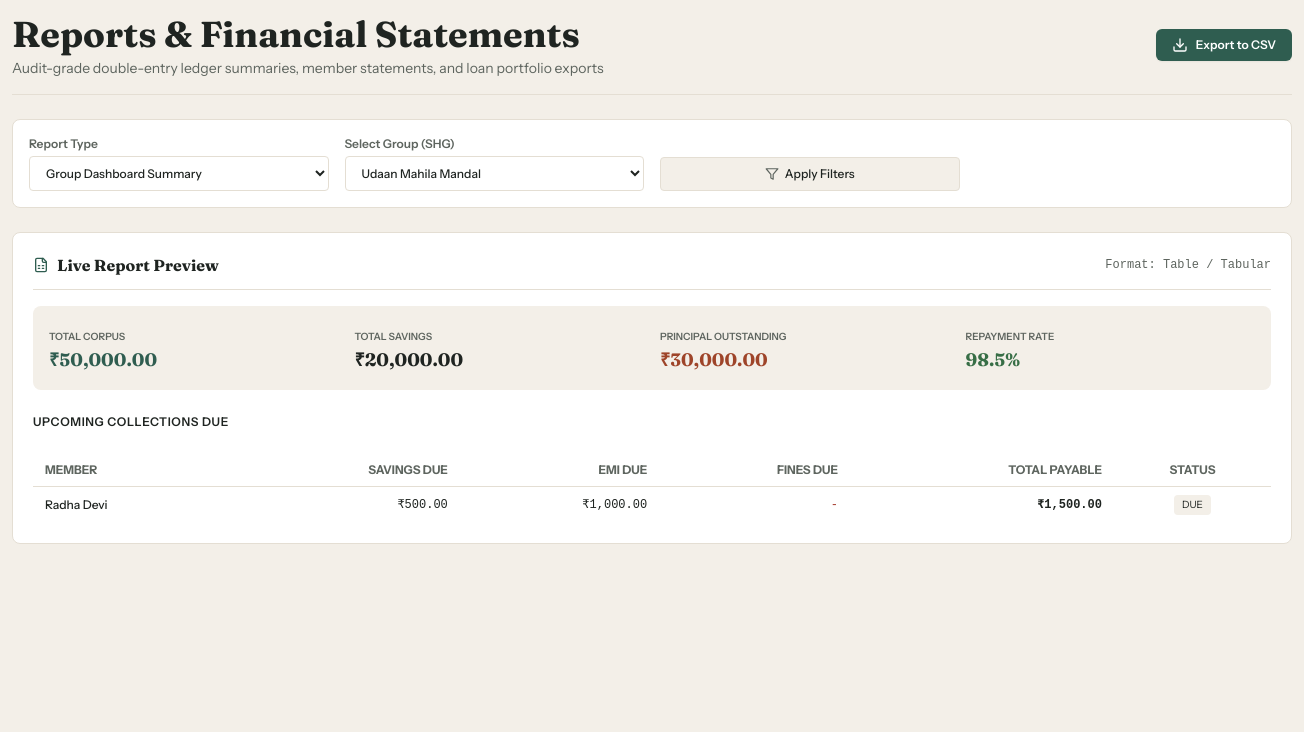
Scenario: Screen 10: Reports & Financial Statements › switches to Group Ledger & Trial Balance with double-entry balanced assertion
Expected: the text "Total Corpus" is shown, [49,330,125,343]
Note: Select Group Ledger
Select "Group Ledger & Trial Balance" in the dropdown labelled "Report Type" at [179, 174], box [29,156,328,191]
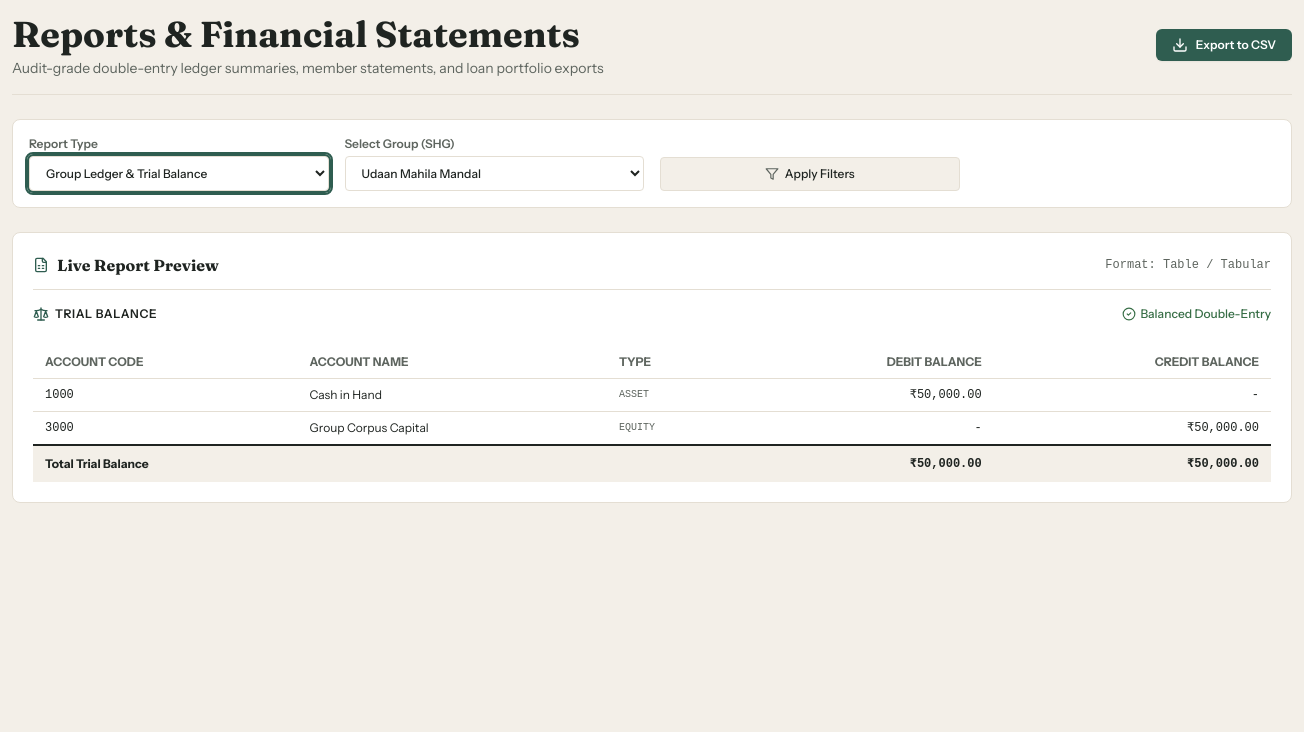
Expected: the heading "Trial Balance" is shown, [33,306,157,322]
Expected: the text "Balanced Double-Entry" is shown, [1122,306,1271,322]
Expected: the text "Cash in Hand" is shown, [298,378,607,412]
